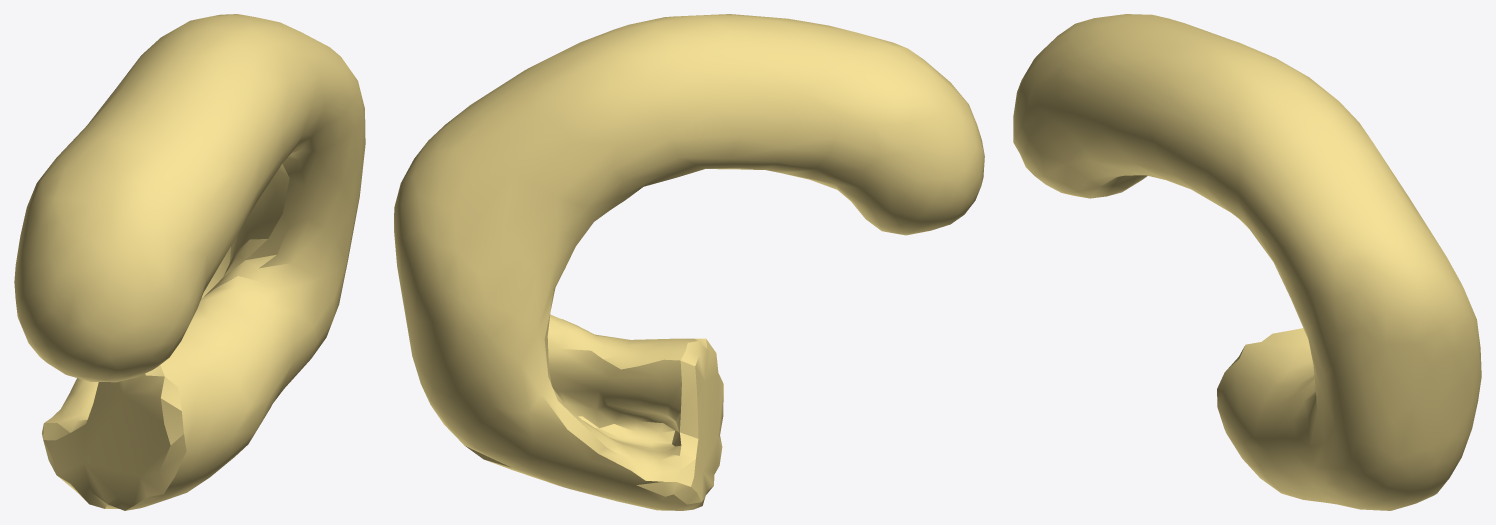
File: fma274993_mm3641m.glb
The picture shows the model from 3 angles, left to right: view 1: azimuth 30°, elevation 25°; view 2: azimuth 150°, elevation 25°; view 3: azimuth 270°, elevation 25°; orthographic projection. The views are drawn at different scales.
Visible parts, largest first — view 1: FMA274993_MM3641M; view 2: FMA274993_MM3641M; view 3: FMA274993_MM3641M.
Boxes of the visible parts, x1=… form: FMA274993_MM3641M: x1=14, y1=14, x2=365, y2=510; FMA274993_MM3641M: x1=394, y1=14, x2=984, y2=510; FMA274993_MM3641M: x1=1013, y1=14, x2=1481, y2=510.
Bounding box in the file's own units: 0.00706 × 0.00682 × 0.00653.
